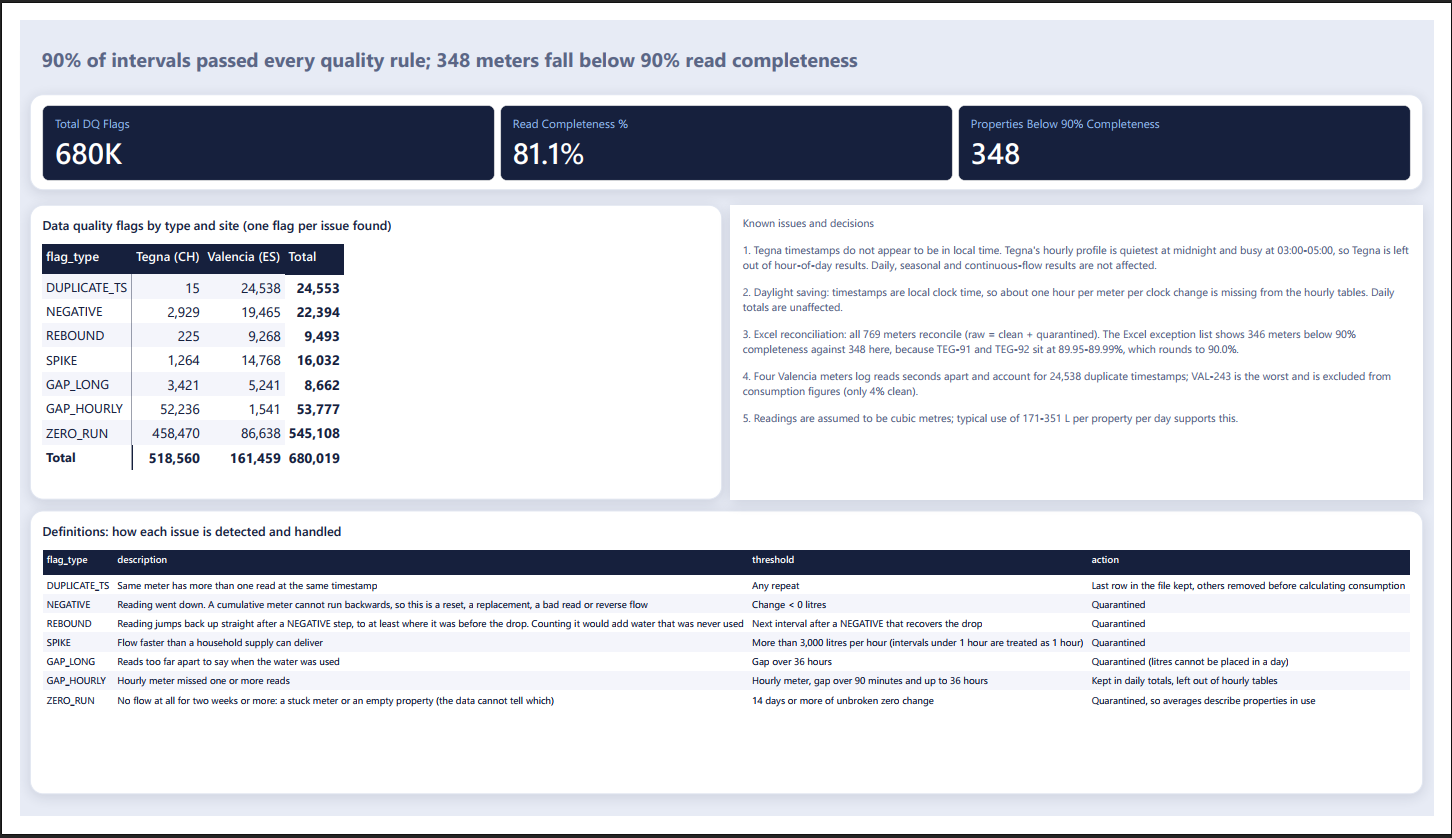

The dashboard page shown, as its layout file describes it:
{"tool":"powerbi","page":{"name":"Data quality","canvas":[1920,1080],"ordinal":4},"visuals":[{"type":"pivotTable","title":"Data quality flags by type and site (one flag per issue found)","fields":{"Columns":["DimProperty.site_name"],"Rows":["DimDQFlag.flag_type"],"Values":["_Measures.Total DQ Flags"]},"box":[14,250,940,400],"z":0},{"type":"tableEx","title":"Definitions: how each issue is detected and handled","fields":{"Values":["DimDQFlag.flag_type","DimDQFlag.description","DimDQFlag.threshold","DimDQFlag.action"]},"box":[14,665,1892,385],"z":1},{"type":"cardVisual","fields":{"Data":["_Measures.Total DQ Flags","_Measures.Read Completeness %","_Measures.Properties Below 90% Completeness"]},"box":[14,100,1892,130],"z":2},{"type":"textbox","box":[966,250,940,400],"z":3},{"type":"textbox","box":[14,20,1400,70],"z":4}]}

Visuals, with their boxes in screenshot pixels (x1, y1, x2, y2), scaled from the page's 1920x1080 canvas onto the 1452x838 screenshot:
"Data quality flags by type and site (one flag per issue found)" pivotTable: select_region(11, 194, 721, 504)
"Definitions: how each issue is detected and handled" tableEx: select_region(11, 516, 1441, 815)
cardVisual - _Measures.Total DQ Flags x _Measures.Read Completeness %: select_region(11, 78, 1441, 178)
textbox: select_region(731, 194, 1441, 504)
textbox: select_region(11, 16, 1069, 70)
